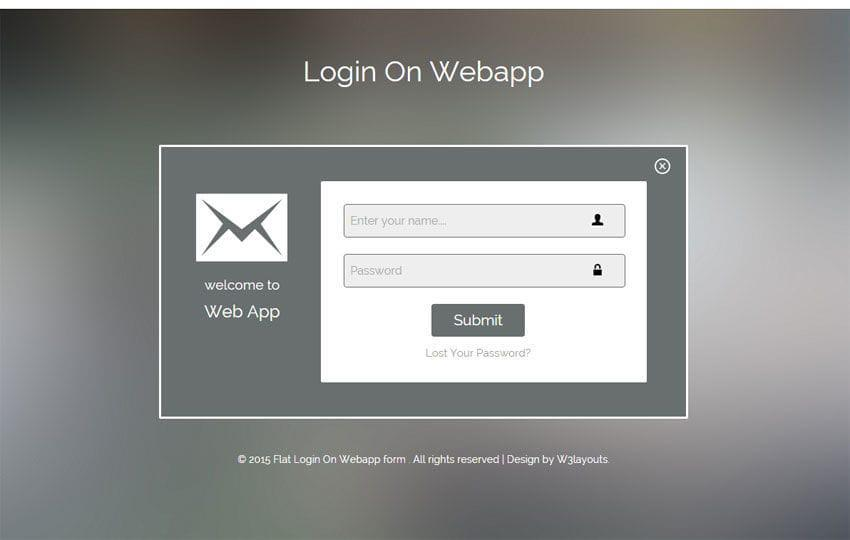button: (431, 304, 526, 337)
icon: (590, 258, 610, 280), (592, 210, 609, 231)
input: (345, 204, 626, 238), (345, 256, 627, 289)
